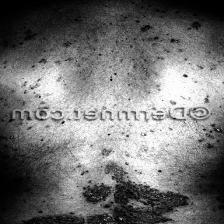Non-Cancerous Skin Condition: (17, 174, 194, 224), (132, 18, 204, 46), (201, 125, 224, 152)
